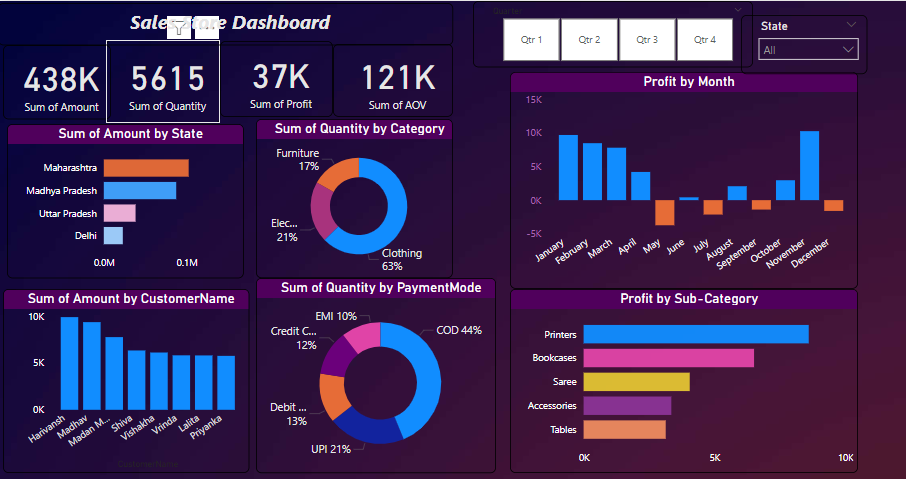

The page's visual inventory and layout, read from the dashboard file:
{"tool":"powerbi","page":{"name":"Page 1","canvas":[1280,720],"ordinal":0},"visuals":[{"type":"columnChart","title":"Profit by Month","fields":{"Y":["Details.Profit"],"Category":["Orders.Order Date.Variation.Date Hierarchy.Month"]},"box":[640,88.8,435,271.2],"z":1},{"type":"barChart","title":"Profit by Sub-Category","fields":{"Category":["Details.Sub-Category"],"Y":["Details.Profit"]},"box":[640,360,350,230],"z":2},{"type":"donutChart","fields":{"Y":["Details.Quantity"],"Category":["Details.PaymentMode"]},"box":[322.5,346.2,300,243.8],"z":3},{"type":"donutChart","fields":{"Category":["Details.Category"],"Y":["Details.Quantity"]},"box":[322.5,147.5,246.2,198.8],"z":4},{"type":"card","fields":{"Values":["Details.Amount"]},"box":[6.2,55,135,92.5],"z":5},{"type":"card","fields":{"Values":["Details.Quantity"]},"box":[135,48.8,142.5,103.8],"z":6},{"type":"card","fields":{"Values":["Details.Profit"]},"box":[277.5,50,141.2,95],"z":7},{"type":"card","fields":{"Values":["Details.AOV"]},"box":[418.8,53.8,150,91.2],"z":8},{"type":"barChart","fields":{"Category":["Orders.State"],"Y":["Details.Amount"]},"box":[11.2,153.8,296.2,192.5],"z":9},{"type":"columnChart","fields":{"Category":["Orders.CustomerName"],"Y":["Details.Amount"]},"box":[6.2,360,307.5,230],"z":10},{"type":"textbox","box":[0,2.5,568.8,52.5],"z":11},{"type":"slicer","fields":{"Values":["Orders.Order Date.Variation.Date Hierarchy.Quarter"]},"box":[593.8,0,350,82.5],"z":12},{"type":"slicer","fields":{"Values":["Orders.State"]},"box":[928.8,17.5,157.5,73.8],"z":13}]}

Visuals, with their boxes on the page's 1280x720 design canvas (x1, y1, x2, y2). These are canvas units, not pixel positions in the 906x479 screenshot, which may show the page scaled, cropped or inside an application window:
"Profit by Month" columnChart: (640,89,1075,360)
"Profit by Sub-Category" barChart: (640,360,990,590)
donutChart - Details.Quantity x Details.PaymentMode: (322,346,622,590)
donutChart - Details.Category x Details.Quantity: (322,148,569,346)
card - Details.Amount: (6,55,141,148)
card - Details.Quantity: (135,49,278,153)
card - Details.Profit: (278,50,419,145)
card - Details.AOV: (419,54,569,145)
barChart - Orders.State x Details.Amount: (11,154,307,346)
columnChart - Orders.CustomerName x Details.Amount: (6,360,314,590)
textbox: (0,2,569,55)
slicer - Orders.Order Date.Variation.Date Hierarchy.Quarter: (594,0,944,82)
slicer - Orders.State: (929,18,1086,91)
